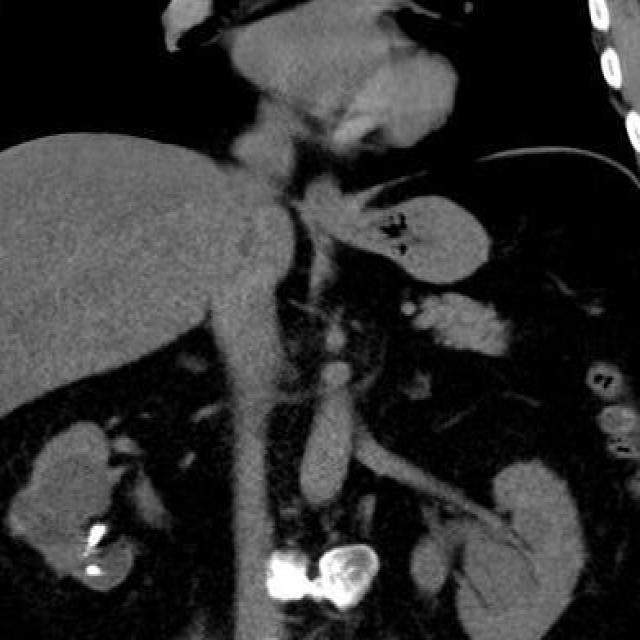Tas_Var: (84, 521, 109, 551), (84, 561, 103, 579)
